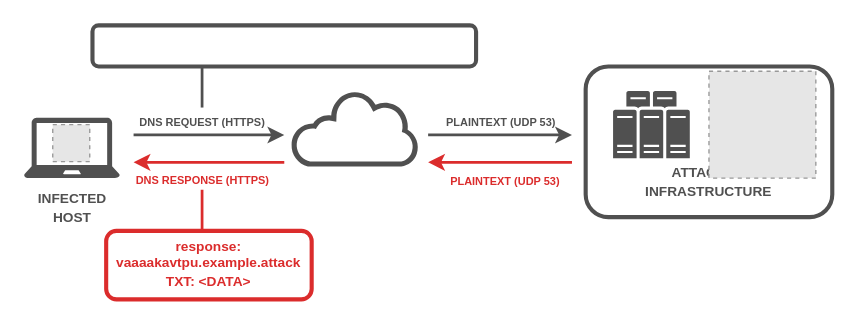
Some shapes in this 858 by 325 pixel diagram are drawn without their labels. Grey dashed boxes stand in for pictures. Each missing label, with the centre of its shape:
"DOH RESOLVER" belongs at (x=354, y=128).
"GET /dns-query?&dns=AAABA.example.attack" belongs at (x=283, y=45).
